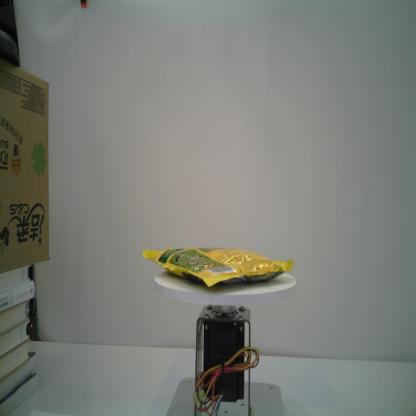Seasoner: (141, 246, 295, 288)
